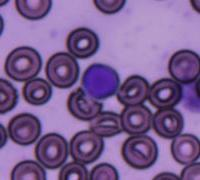L: (82, 62, 119, 100)
